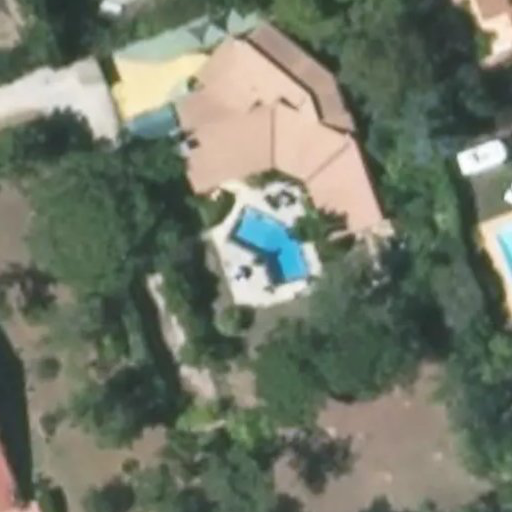pool: (209, 230, 309, 254)
